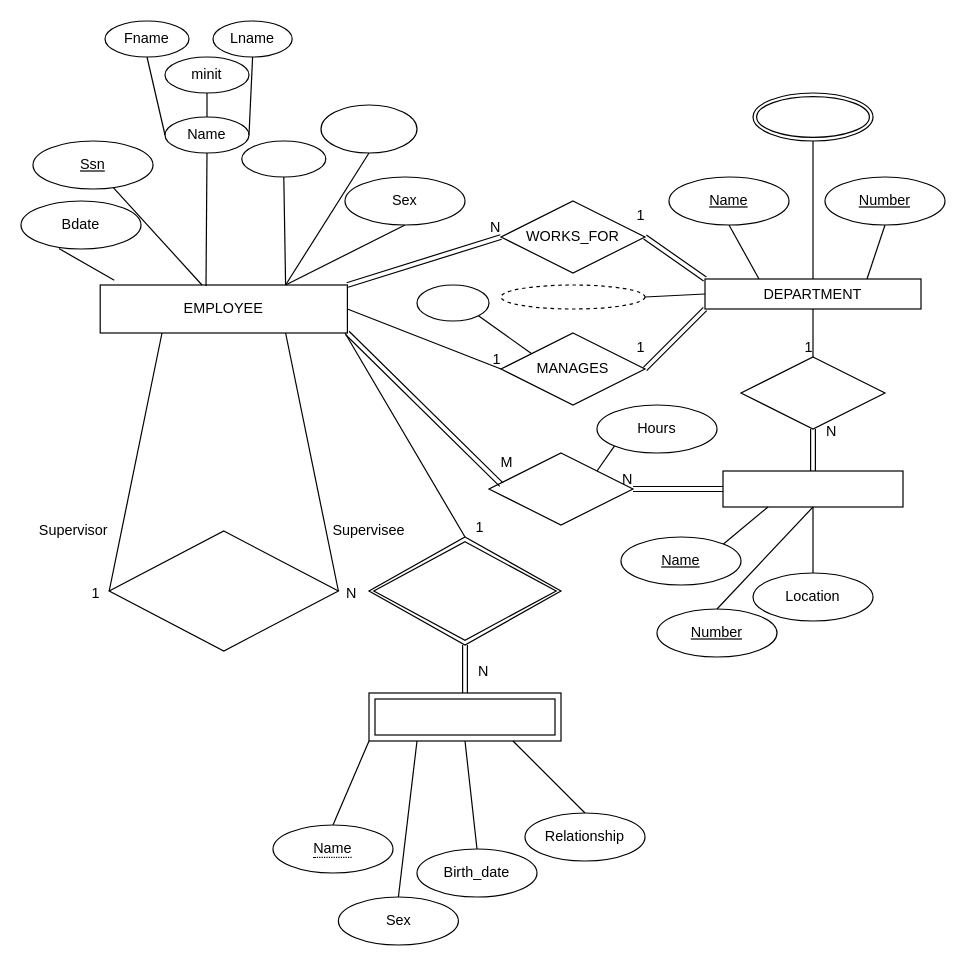
Image size: 966x966. Some labels were removed from this diagram. The centre of each missing label's shape, as x and y in pixels:
Address: point 283,158
CONTROLS: point 812,392
DEPENDENT_OF: point 464,590
Entity: point 464,716
Locations: point 812,116
Number_of_employees: point 572,296
PROJECT: point 812,488
Salary: point 368,128
Start_date: point 452,302
SUPERVISION: point 223,590
WORKS_ON: point 560,488
